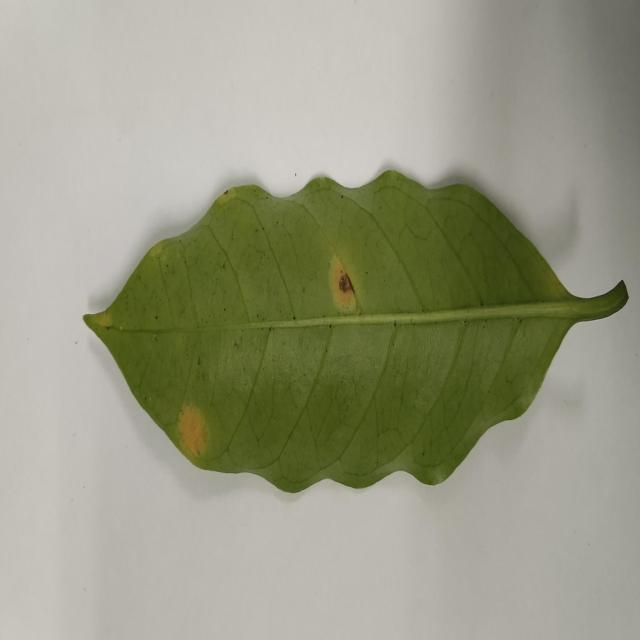Enfermedad-Roya: (83, 168, 629, 497)
